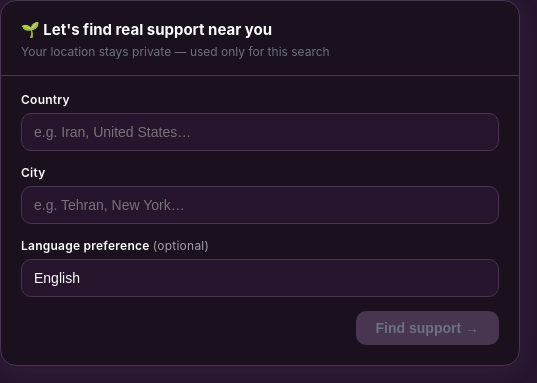
Test case: SupportWidget — search flow › shows results after successful fetch
In the field labelled "Country": (260, 132) x1=21 y1=113 x2=499 y2=151, type "Germany"
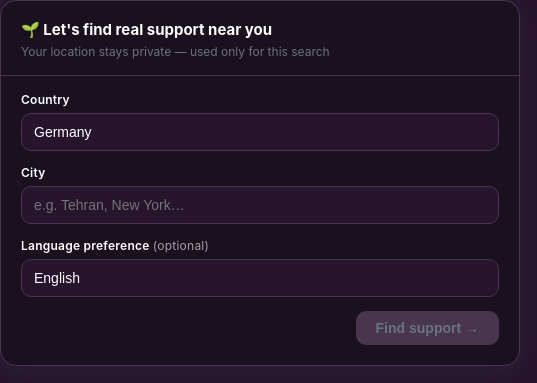
In the field labelled "City": (260, 205) x1=21 y1=186 x2=499 y2=224, type "Berlin"
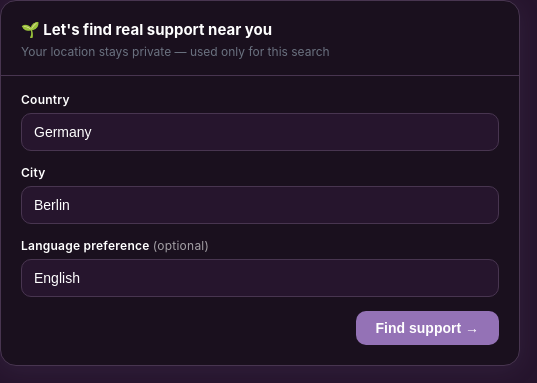
Click the button "Find support →": (427, 328) x1=356 y1=311 x2=499 y2=345
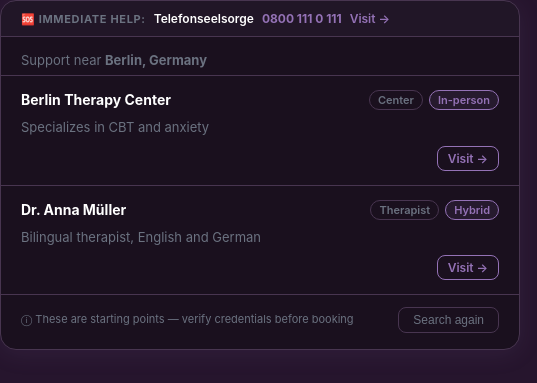
Now the text "Berlin Therapy Center" is shown, box x1=21 y1=91 x2=171 y2=108
